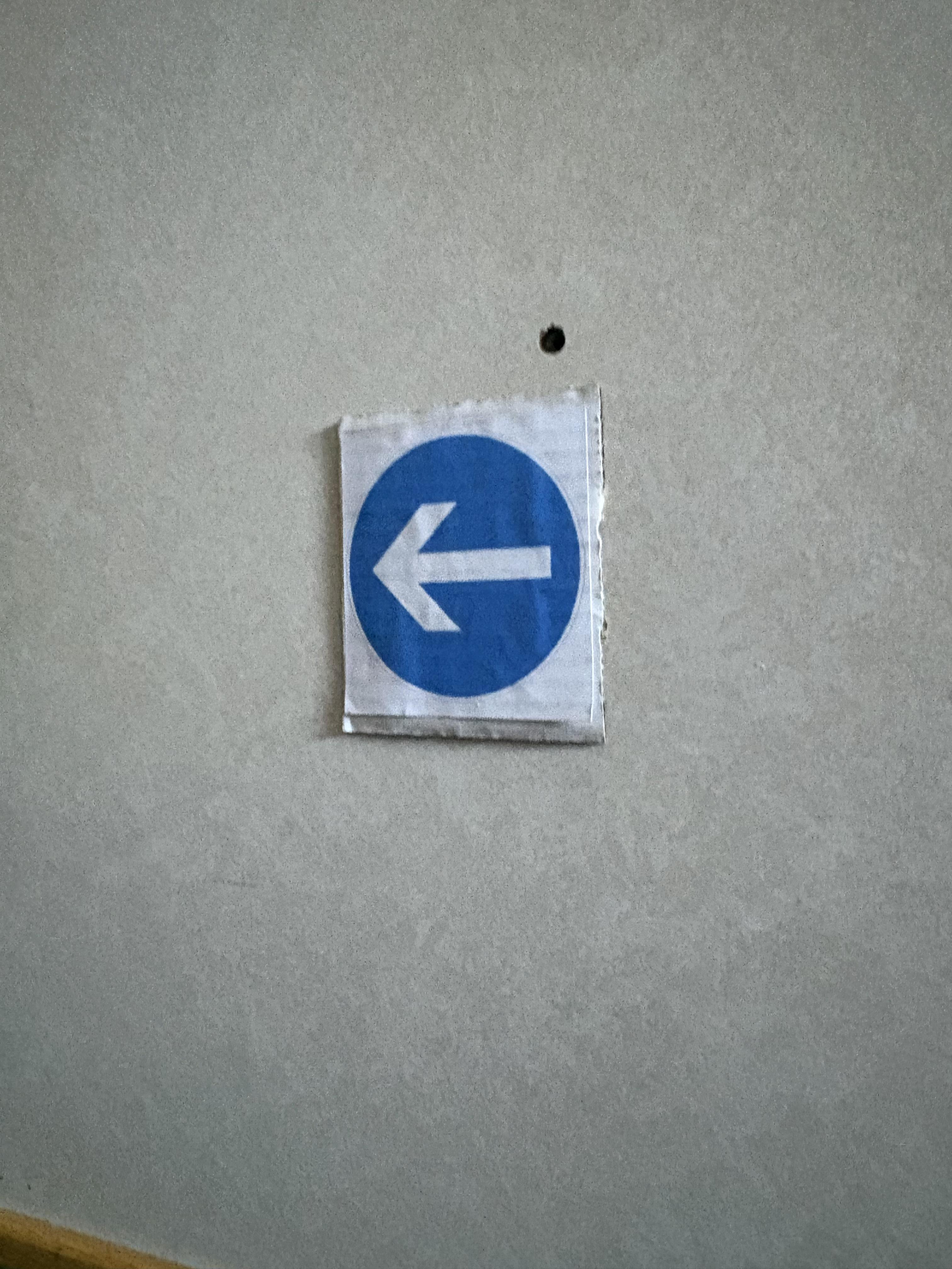Proceed Left: (337, 394, 609, 754)
